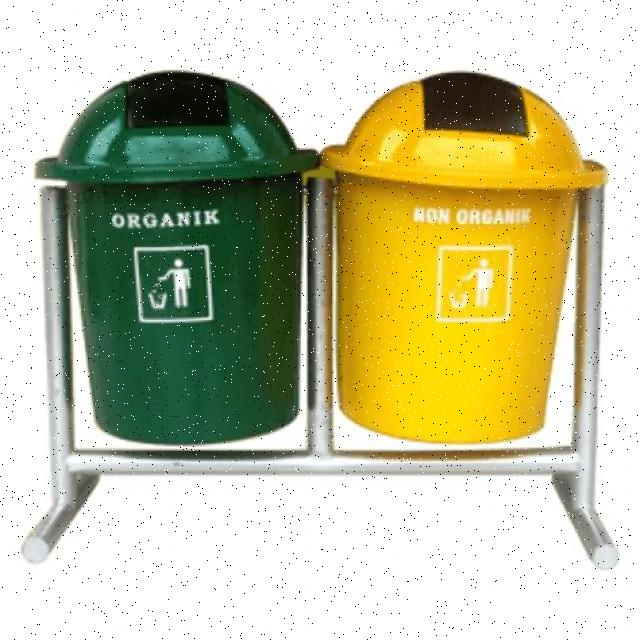garbage container: (34, 52, 316, 486), (334, 48, 598, 468)
